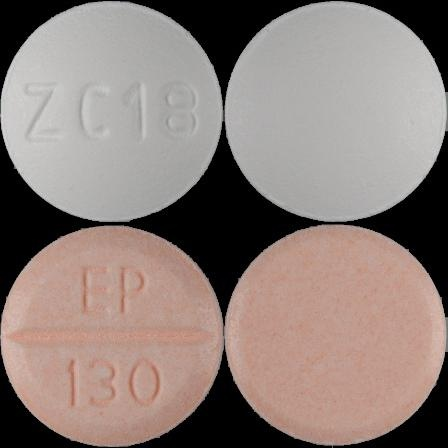63187-434: (0, 0, 224, 224)
